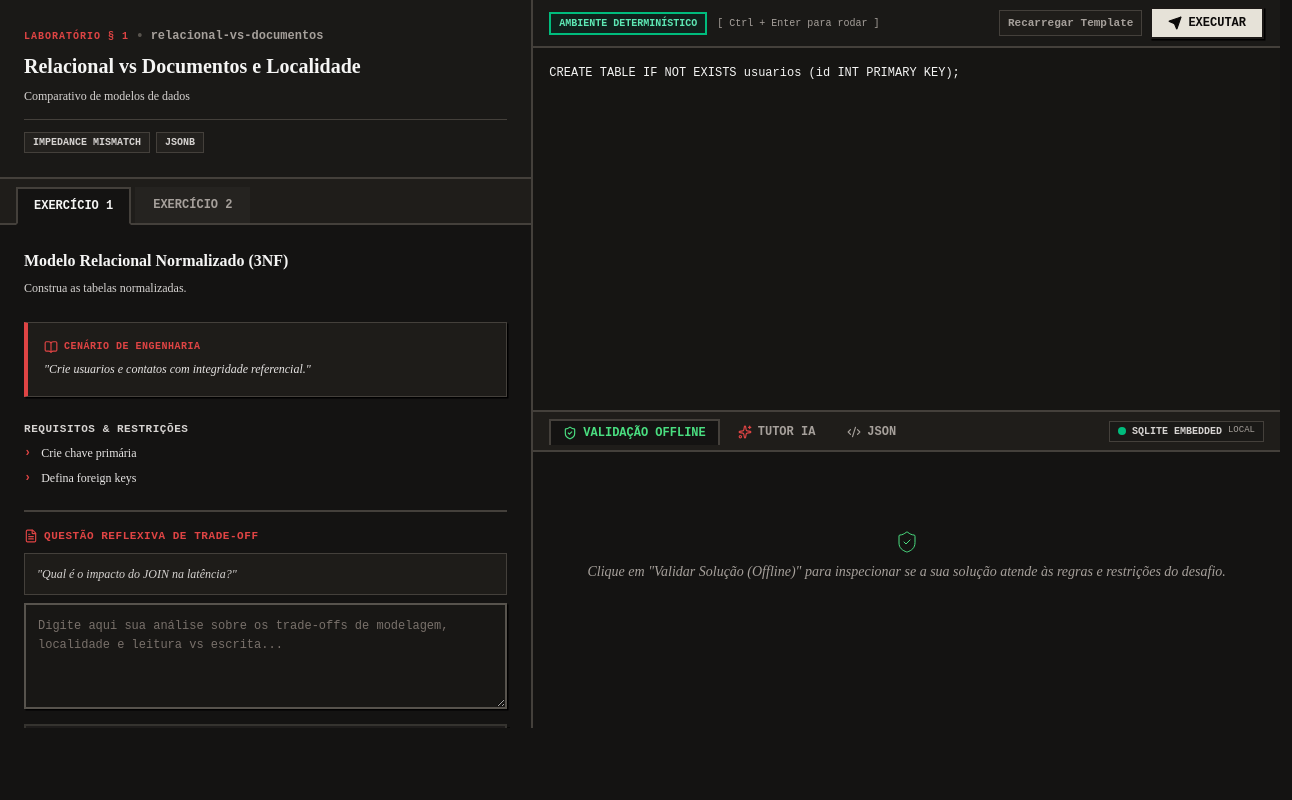
Test: LabWorkspace Component › deve restaurar o template ao clicar em "Recarregar Template"
The image size is (1292, 800).
Step 1. Replace the text in the text box with placeholder "-- Digite aqui sua instrução SQL ou Cypher..." with "MODIFICAÇÃO TEMPORÁRIA" → (907, 229), box [533,48,1280,410]
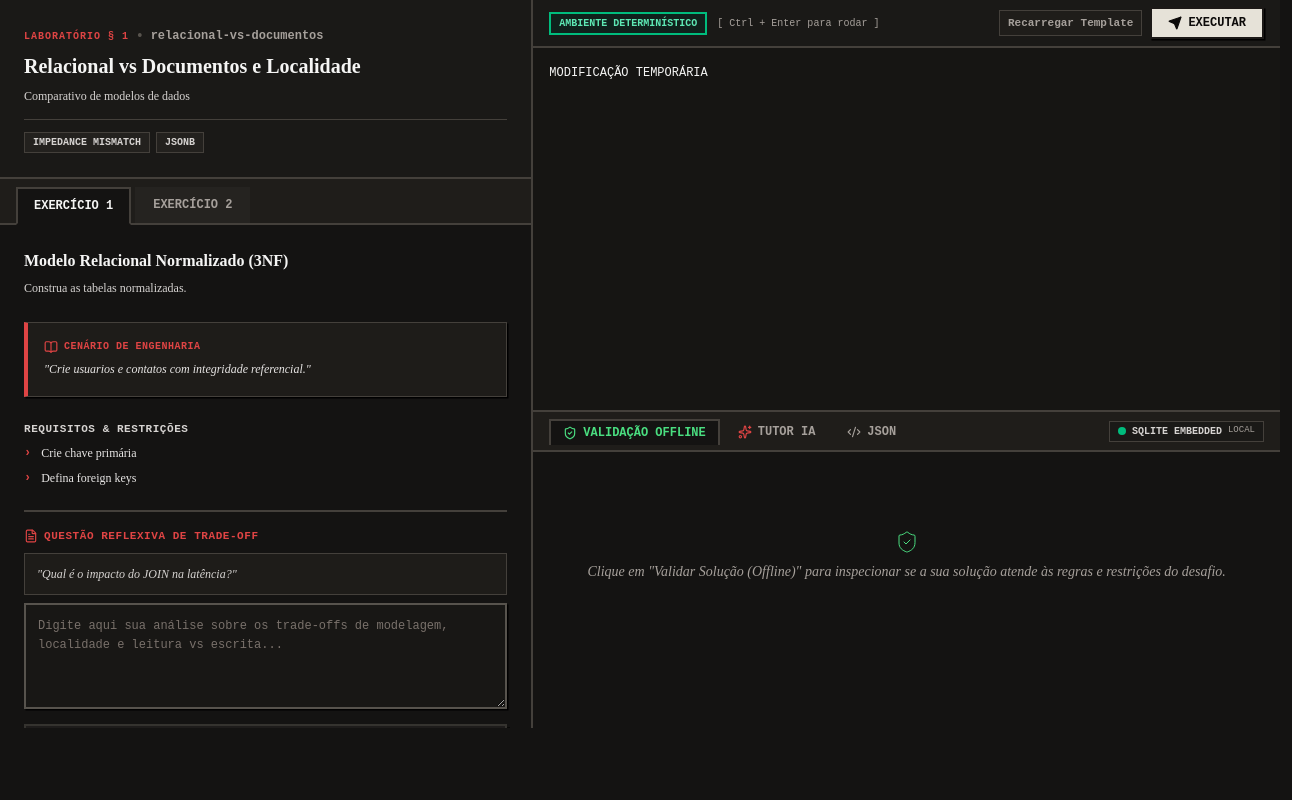
Step 2. Click the button "Recarregar Template" → (1071, 23), box [999,10,1142,36]
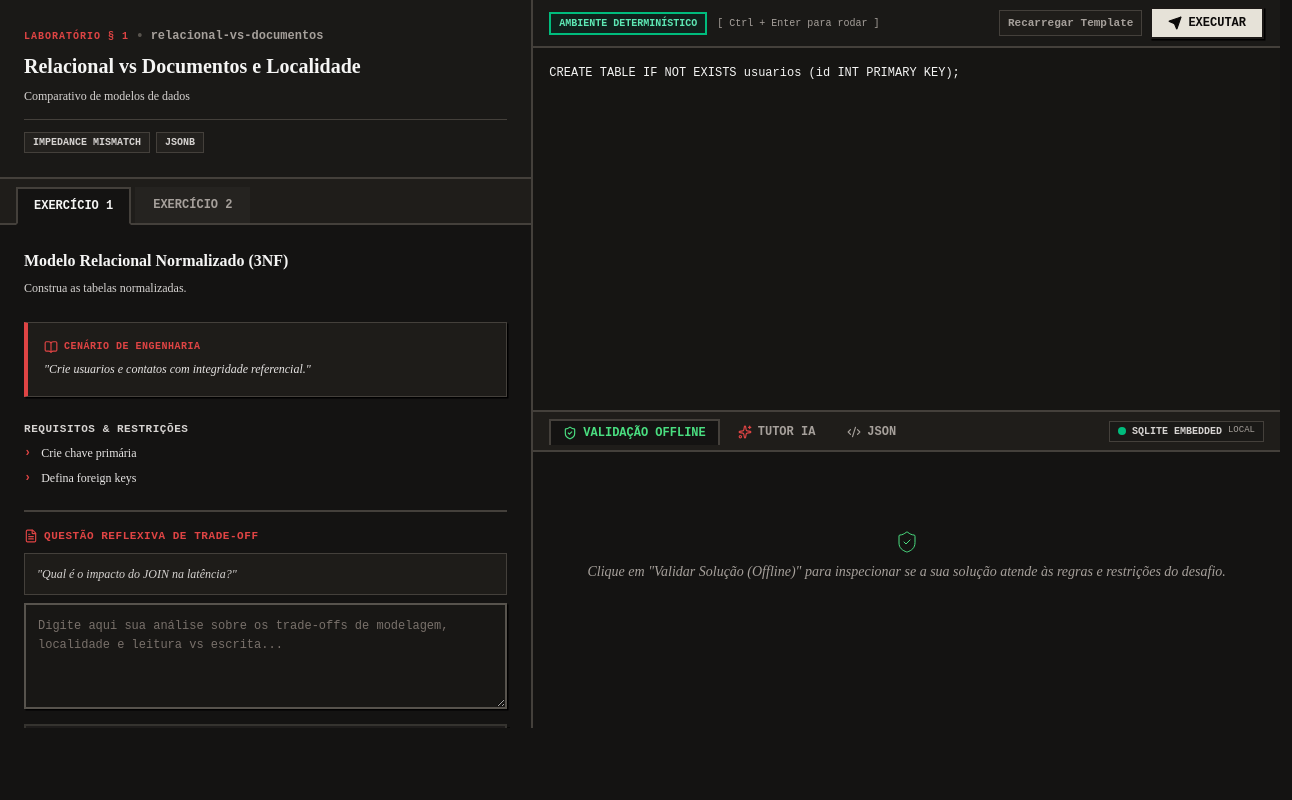
Expected: the text box with placeholder "-- Digite aqui sua instrução SQL ou Cypher..." holds "CREATE TABLE IF NOT EXISTS usuarios (id INT PRIMARY KEY);", [533,48,1280,410]
